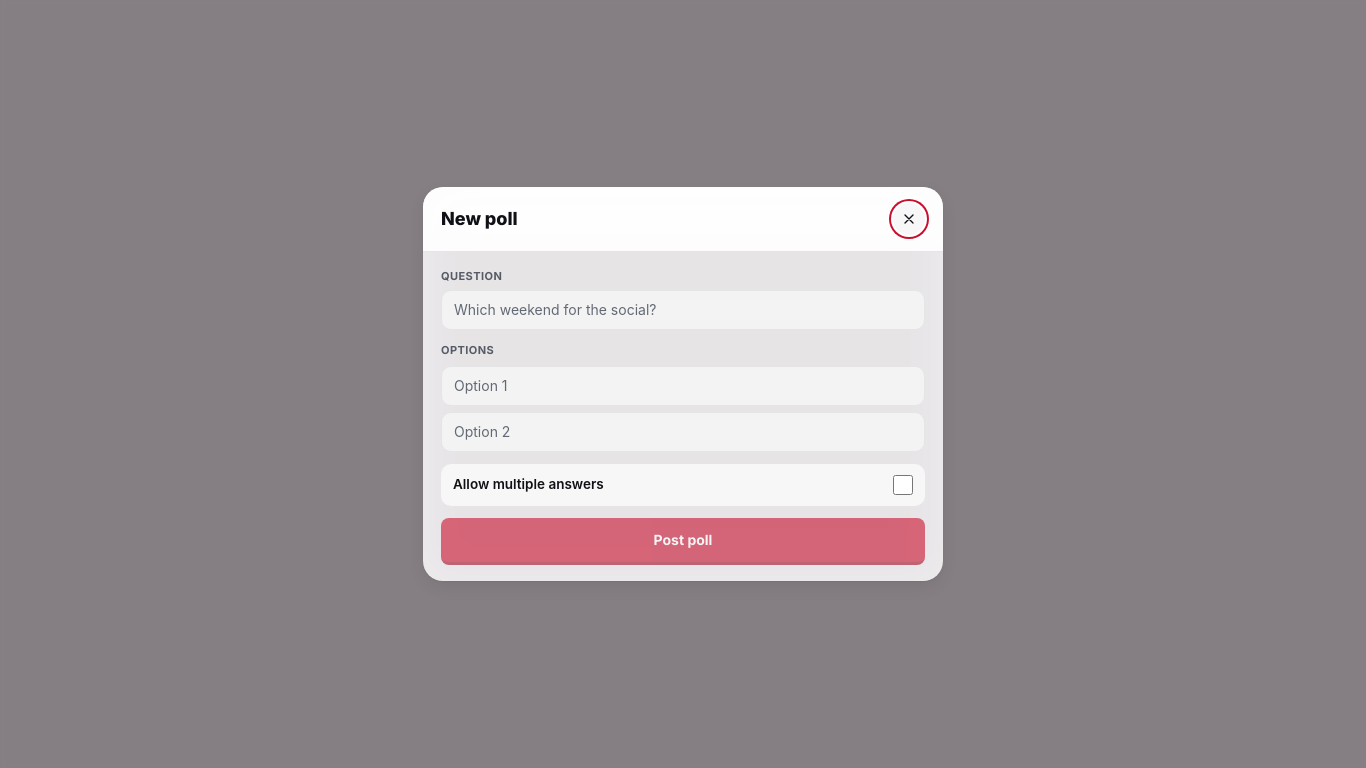
Test: PollComposer › grows a fresh option field as the last one is filled
Type "Sunday" into the field with test id "poll-option-input-1" at [683, 432], box [441,412,925,452]
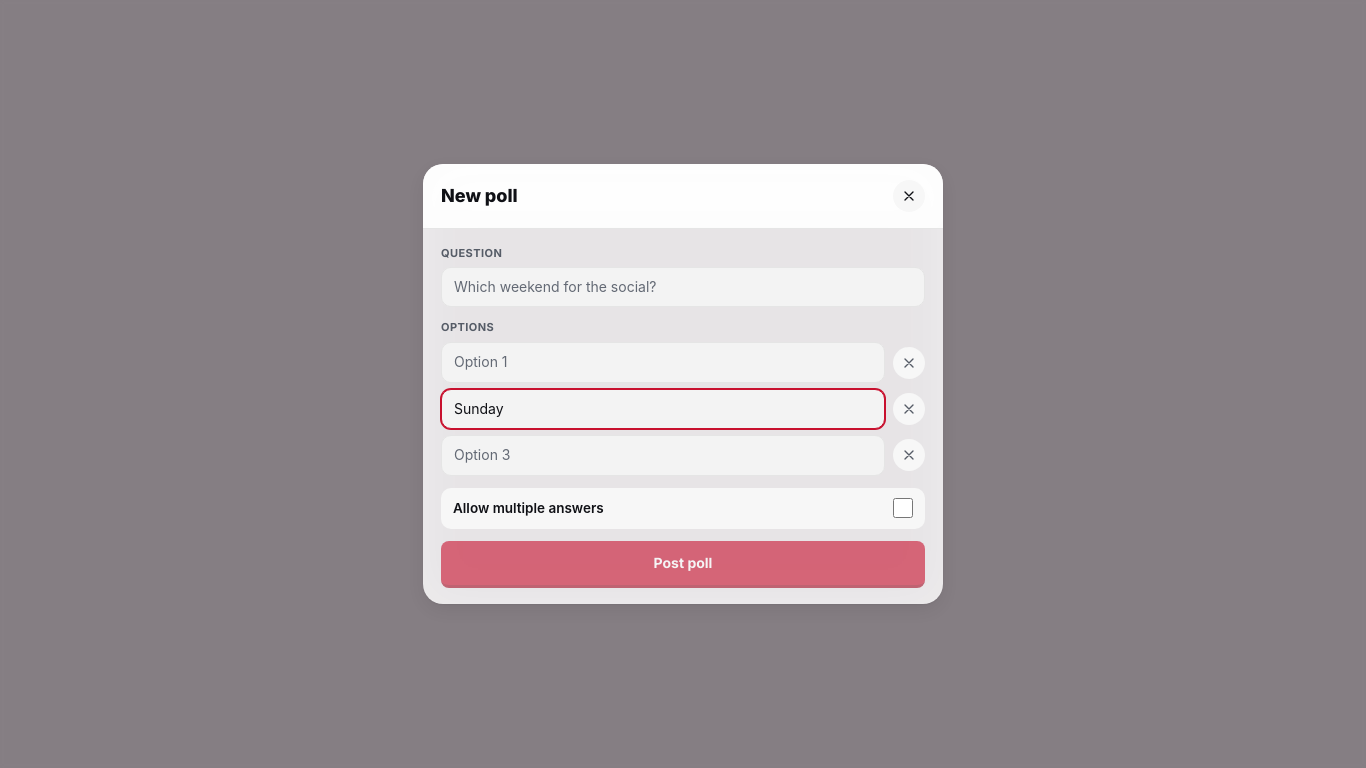
Expected: the field with test id "poll-option-input-2" is shown, [441,435,885,476]
